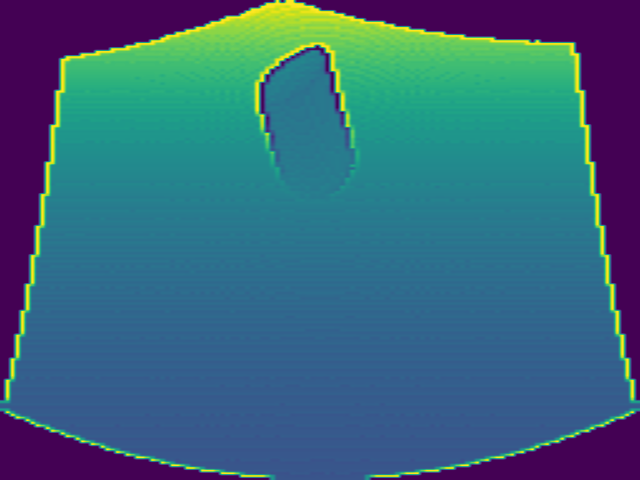cylinder: (253, 42, 358, 197)
